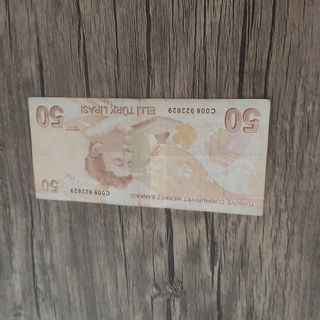50TLBack: (27, 96, 271, 217)
